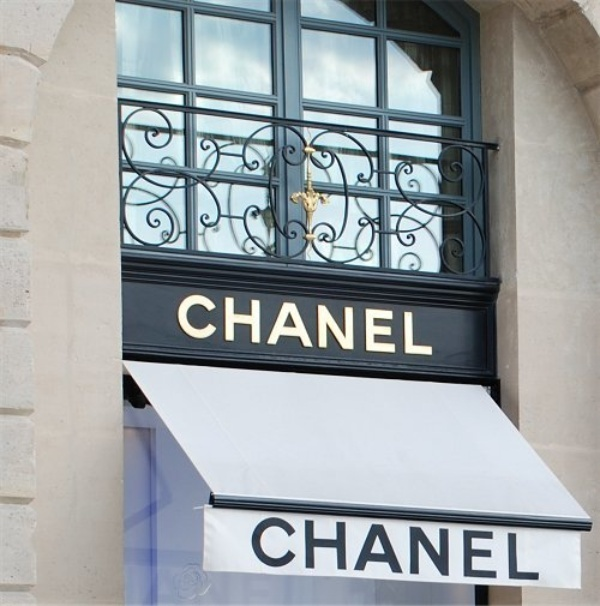text: (417, 292, 433, 357), (177, 292, 192, 357), (193, 292, 208, 357), (209, 292, 224, 357), (225, 292, 240, 357), (241, 292, 256, 357), (257, 292, 272, 357), (273, 292, 288, 357), (289, 292, 304, 357), (305, 292, 320, 357), (321, 292, 336, 357), (337, 292, 352, 357), (353, 292, 368, 357), (369, 292, 384, 357), (385, 292, 400, 357), (401, 292, 416, 357), (257, 515, 272, 580), (273, 515, 288, 580), (289, 515, 304, 580), (305, 515, 320, 580), (321, 515, 336, 580), (337, 515, 352, 580), (353, 515, 368, 580), (369, 515, 384, 580), (385, 515, 400, 580), (401, 515, 416, 580), (417, 515, 432, 580), (433, 515, 448, 580), (449, 515, 464, 580), (465, 515, 480, 580), (481, 515, 496, 580), (497, 515, 512, 580), (513, 515, 528, 580), (529, 515, 541, 580), (250, 515, 256, 580)
